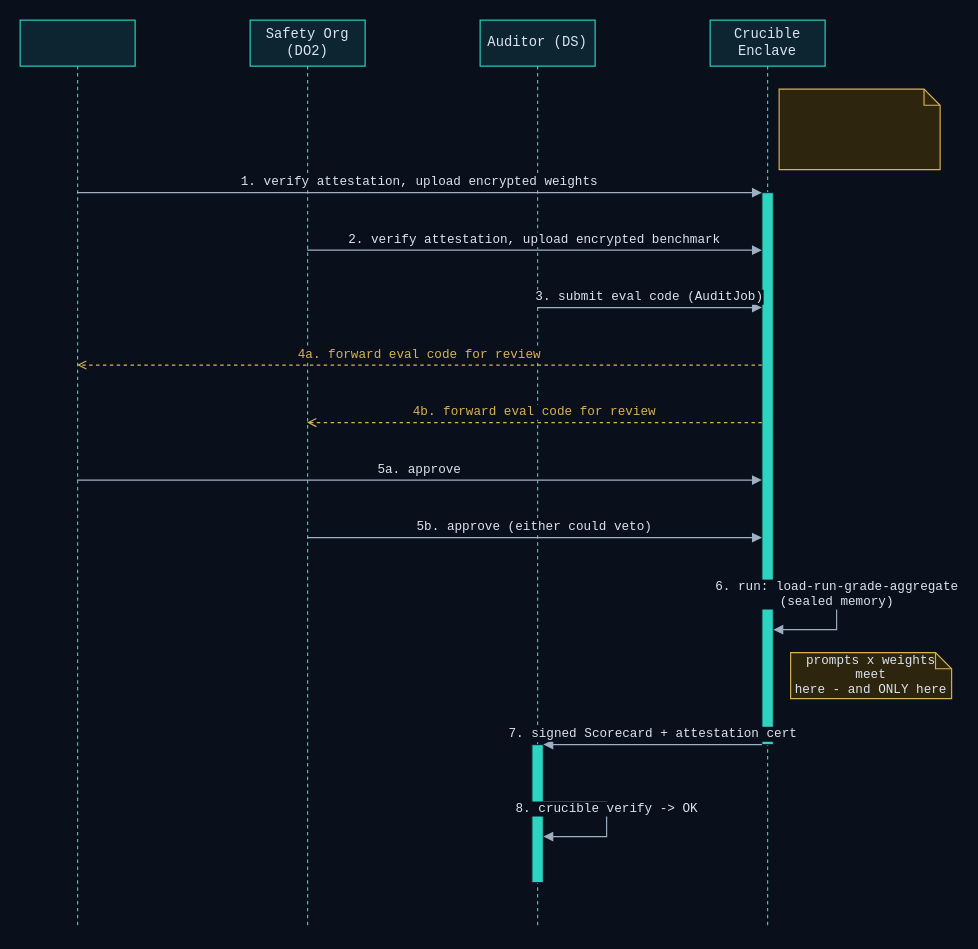
This 978x949 diagram has some shape labels left out. Here are the shapes that lost their labels. From the top down, the box of each, then its label:
(778, 88, 940, 170): boots · publishes attestation (EAT JWT) + fresh keys
(19, 19, 135, 929): AI Lab (DO1)
